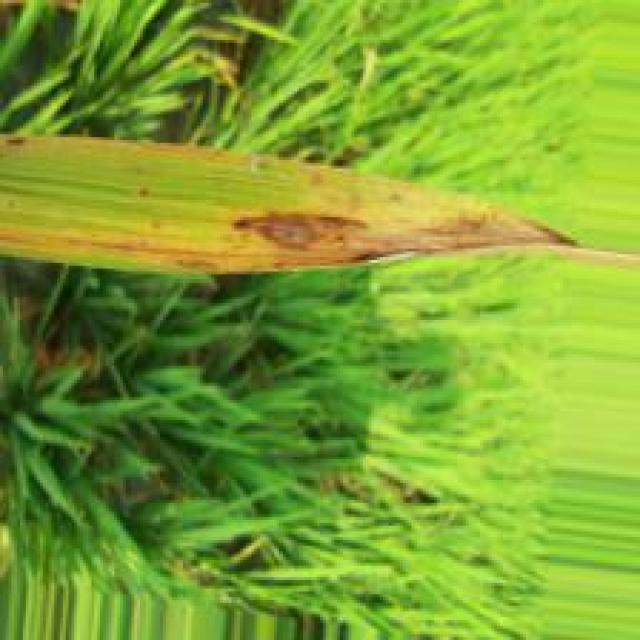Bacterial_Leaf_Blight: (226, 209, 573, 271), (0, 223, 270, 273), (303, 167, 329, 190), (8, 139, 30, 150)
